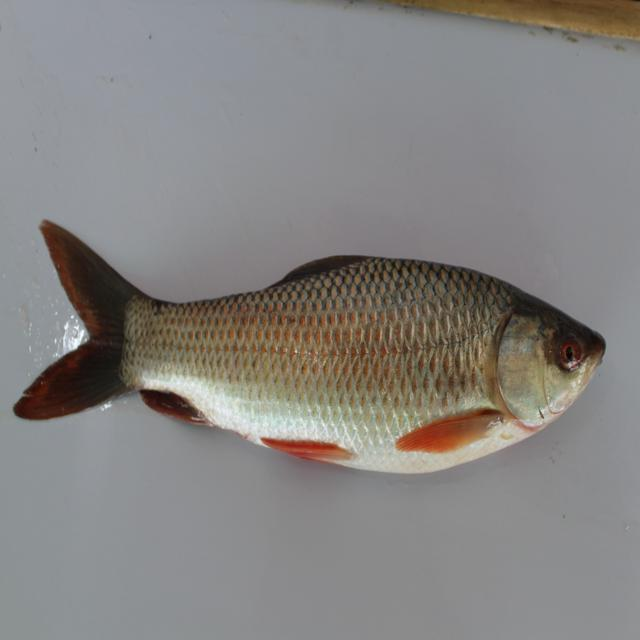Rohu: (20, 201, 613, 507)
